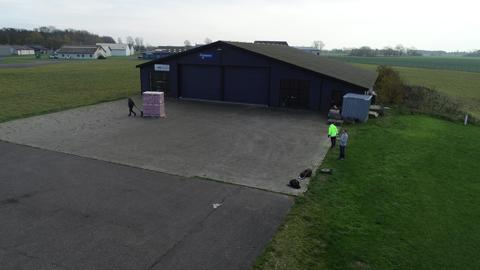RockwoolPallet: (141, 90, 166, 119)
